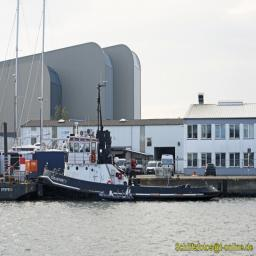tugboat: (37, 69, 224, 207)
